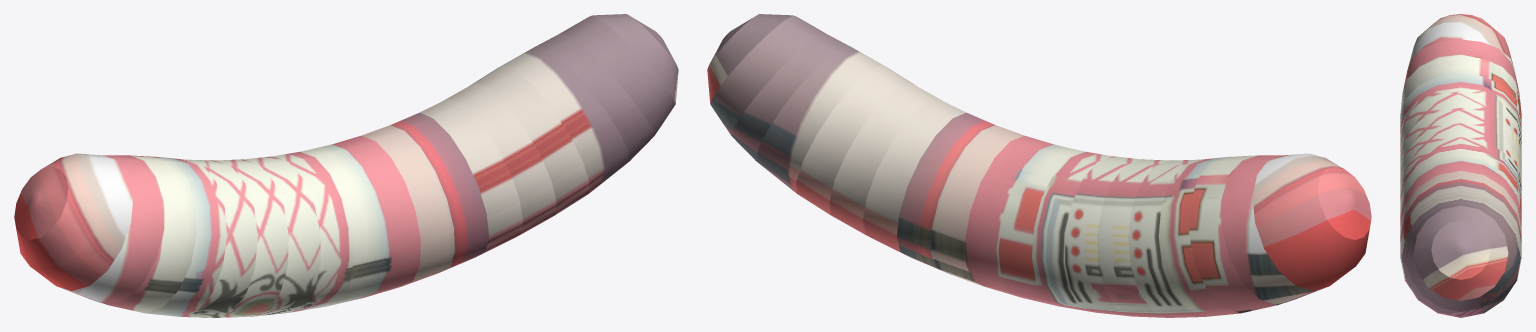
The model's file is banana_T.fbx.
3 renders of one model, left to right at view 1: azimuth 30°, elevation 25°; view 2: azimuth 150°, elevation 25°; view 3: azimuth 270°, elevation 25°, orthographic. The views are drawn at different scales.
Parts seen in each view (by area): view 1: polySurface2, polySurface9, polySurface6, polySurface17, polySurface11, polySurface15, polySurface14, polySurface5, polySurface10, polySurface13, polySurface12, polySurface8 (+7 smaller); view 2: polySurface2, polySurface9, polySurface6, polySurface17, polySurface11, polySurface15, polySurface14, polySurface5, polySurface10, polySurface13, polySurface12, polySurface8 (+7 smaller); view 3: polySurface3, polySurface7, polySurface4, polySurface11, polySurface18, polySurface2, polySurface19, polySurface1, polySurface17, polySurface8, polySurface12, polySurface16 (+7 smaller).
Part boxes in pixels (x1,y1,x2,y2): polySurface2: [14, 153, 133, 290]; polySurface9: [498, 45, 629, 193]; polySurface6: [470, 65, 589, 214]; polySurface17: [59, 155, 164, 305]; polySurface11: [109, 155, 196, 313]; polySurface15: [445, 82, 556, 234]; polySurface14: [420, 98, 522, 253]; polySurface5: [391, 112, 488, 272]; polySurface10: [361, 125, 454, 285]; polySurface13: [332, 135, 420, 297]; polySurface12: [303, 144, 387, 305]; polySurface8: [273, 151, 353, 312]; polySurface2: [1252, 153, 1371, 290]; polySurface9: [756, 45, 887, 193]; polySurface6: [796, 65, 915, 214]; polySurface17: [1221, 155, 1326, 305]; polySurface11: [1189, 155, 1276, 313]; polySurface15: [829, 82, 940, 234]; polySurface14: [863, 98, 965, 253]; polySurface5: [897, 112, 994, 272]; polySurface10: [931, 125, 1024, 285]; polySurface13: [965, 135, 1053, 297]; polySurface12: [998, 144, 1082, 305]; polySurface8: [1032, 151, 1112, 312]; polySurface3: [1413, 205, 1508, 300]; polySurface7: [1400, 73, 1521, 135]; polySurface4: [1407, 203, 1514, 311]; polySurface11: [1400, 55, 1521, 114]; polySurface18: [1400, 91, 1521, 154]; polySurface2: [1407, 14, 1514, 68]; polySurface19: [1400, 108, 1521, 171]; polySurface1: [1400, 123, 1521, 187]; polySurface17: [1402, 39, 1519, 92]; polySurface8: [1400, 137, 1521, 201]; polySurface12: [1400, 149, 1521, 214]; polySurface16: [1403, 200, 1518, 316].
Bounding box in the file's own units: 5.72 × 1.77 × 1.2.
